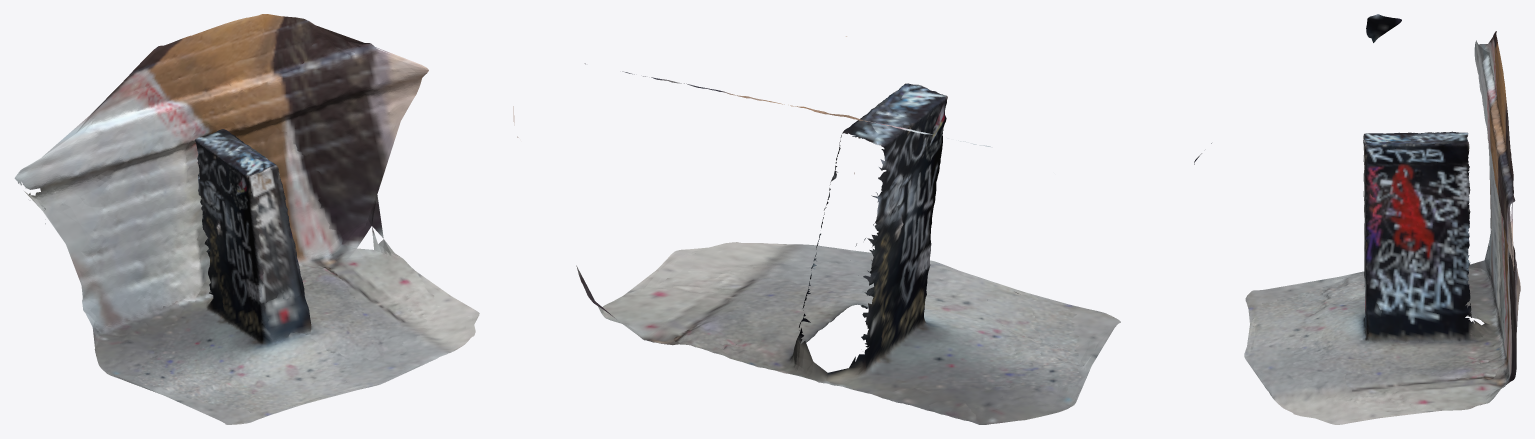
Rendered from Scaniverse_2022-08-18_164515.glb.
3 renders of one model, left to right at view 1: azimuth 30°, elevation 25°; view 2: azimuth 150°, elevation 25°; view 3: azimuth 270°, elevation 25°, orthographic. The views are drawn at different scales.
Parts seen in each view (by area): view 1: mesh; view 2: mesh; view 3: mesh.
Boxes of the visible parts, <box> form: mesh: <box>14,14,479,424</box>; mesh: <box>513,36,1211,424</box>; mesh: <box>1244,14,1520,424</box>.
Size of the model in its own units: 1.61 by 0.9526 by 0.827.
Materials: 1 (1 with a texture image).
